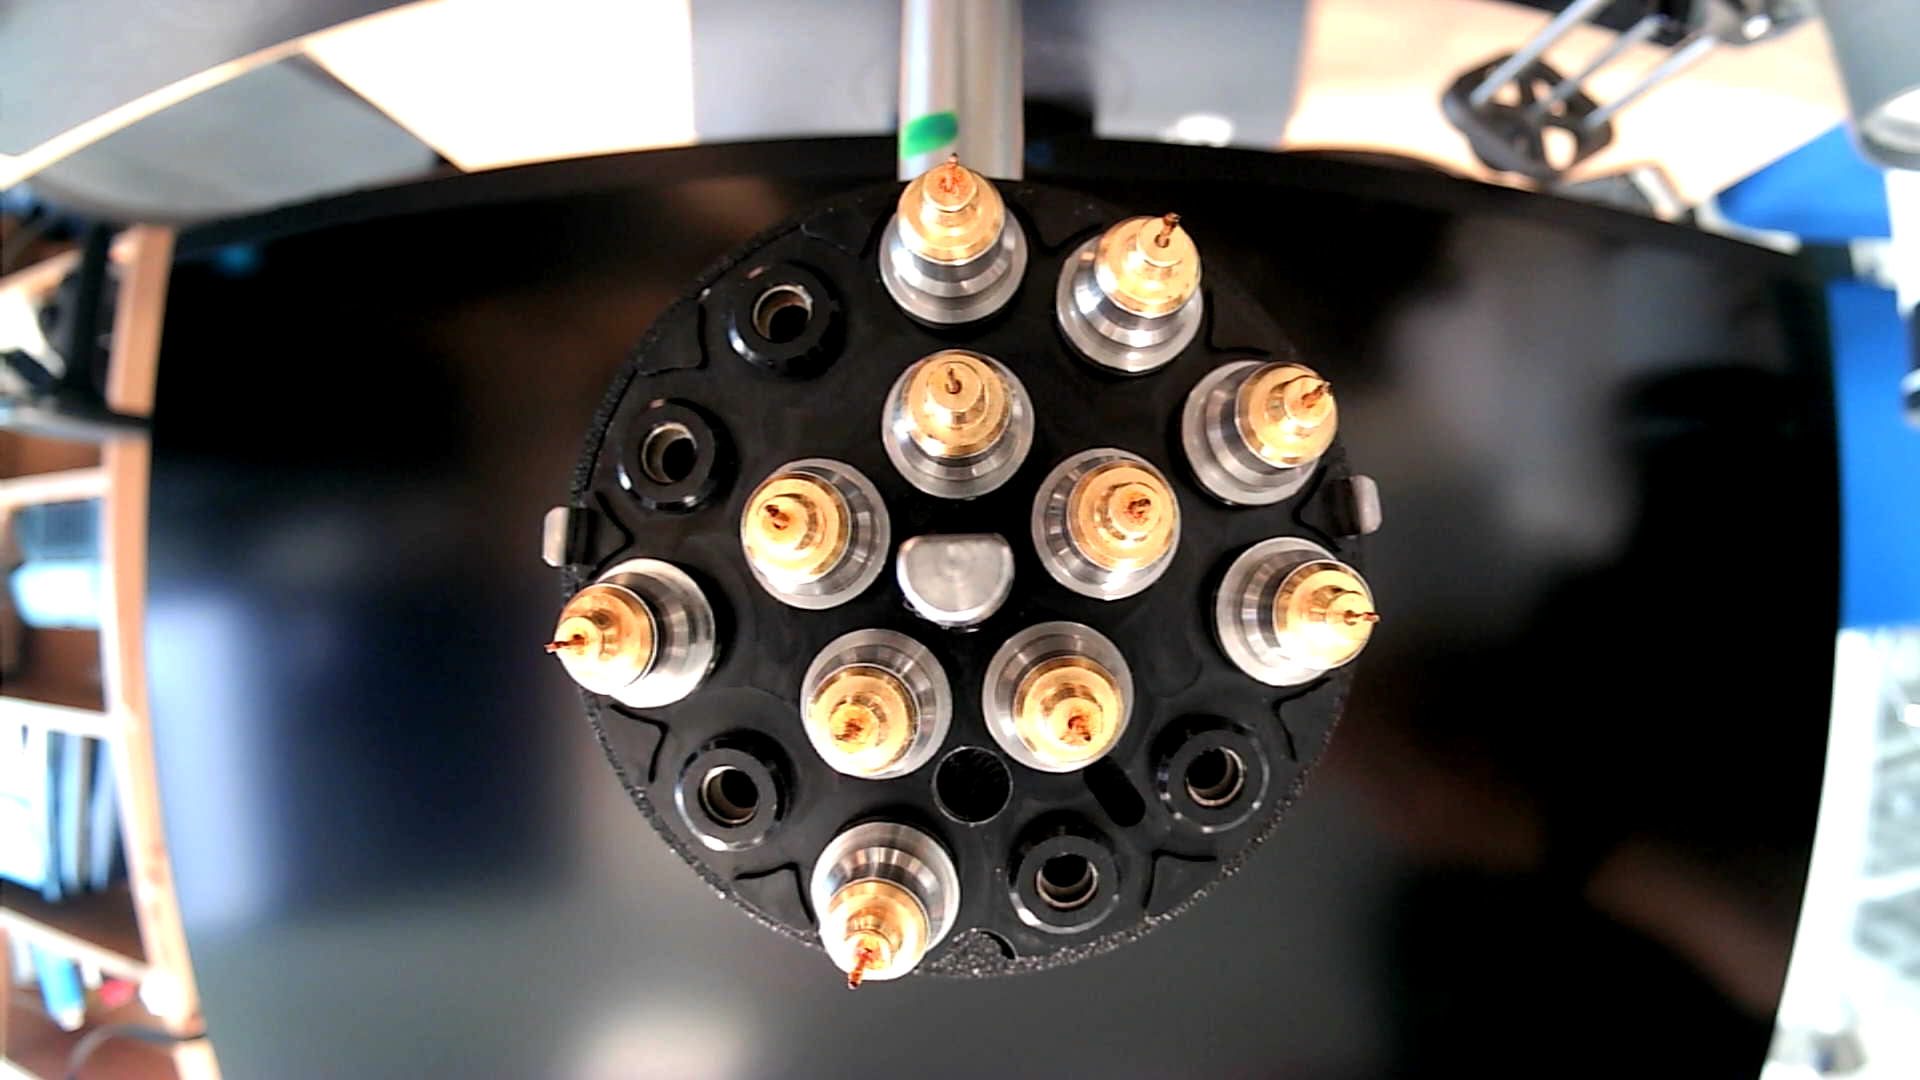empty: (669, 721, 800, 857), (715, 257, 853, 378), (615, 392, 740, 522), (1146, 713, 1278, 835), (1004, 814, 1127, 940)
hole: (930, 742, 1015, 827)
pin: (541, 553, 725, 711), (807, 814, 963, 992), (1205, 533, 1377, 690), (880, 153, 1033, 328), (1055, 208, 1207, 380), (796, 625, 956, 782), (877, 345, 1036, 502), (1029, 446, 1183, 605), (1178, 359, 1337, 513), (977, 621, 1133, 778), (738, 455, 894, 611)
rod: (895, 529, 1021, 634)
